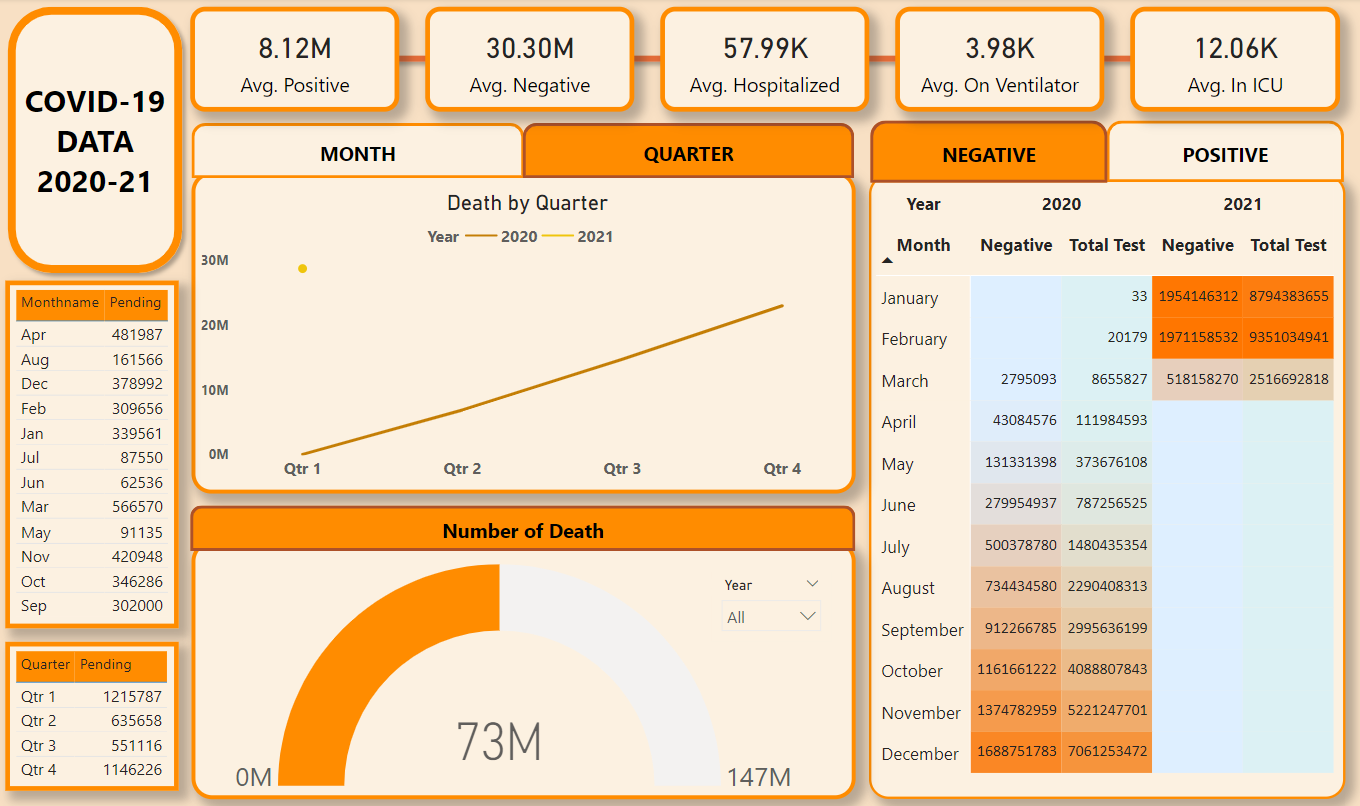

This screenshot's page, from the dashboard's own definition file:
{"tool":"powerbi","page":{"name":"Covid-19 Dashboard","canvas":[1380,820],"ordinal":0},"visuals":[{"type":"lineChart","title":"Death by Quarter","fields":{"Category":["Covid data.date.Variation.Date Hierarchy.Quarter"],"Y":["Sum(Covid data.death)"],"Series":["Covid data.date.Variation.Date Hierarchy.Year"]},"box":[195.1,176.1,673.3,326.8],"z":0},{"type":"shape","box":[300.5,3.8,953.4,115.4],"z":1000},{"type":"gauge","fields":{"Y":["Sum(Covid data.death)"]},"box":[194.9,550.8,673.3,262.7],"z":4000},{"type":"pivotTable","title":"Positive Matrix","fields":{"Rows":["Covid data.date.Variation.Date Hierarchy.Month"],"Columns":["Covid data.date.Variation.Date Hierarchy.Year"],"Values":["Sum(Covid data.Positive)","Sum(Covid data.Total Test)"]},"box":[884.9,178.8,480.5,633.9],"z":5000},{"type":"shape","title":"MonthActive","box":[195.4,126.4,337.3,55.9],"z":6000},{"type":"shape","title":"QuarterInactive","box":[531.7,126.4,336.2,55.9],"z":7000},{"type":"pivotTable","title":"Negative Matrix","fields":{"Rows":["Covid data.date.Variation.Date Hierarchy.Month"],"Columns":["Covid data.date.Variation.Date Hierarchy.Year"],"Values":["Sum(Covid data.Negative)","Sum(Covid data.Total Test)"]},"box":[882.4,178.8,483,633.9],"z":8000},{"type":"shape","title":"PositiveActive","box":[1123.9,125.3,240.9,62.7],"z":10000},{"type":"shape","title":"NegativeInactive","box":[883.9,124.8,240.5,63.1],"z":12000},{"type":"card","title":"Average","fields":{"Values":["Avg(Covid data.Positive)"]},"box":[194,8.9,211.7,106.5],"z":13000},{"type":"card","fields":{"Values":["Avg(Covid data.Negative)"]},"box":[432.3,8.9,211.7,106.5],"z":14000},{"type":"card","fields":{"Values":["Avg(Covid data.hospitalizedCurrently)"]},"box":[670.7,8.9,211.7,106.5],"z":15000},{"type":"shape","title":"NegativeActive","box":[883.6,124.2,240.9,64.7],"z":16000},{"type":"card","fields":{"Values":["Avg(Covid data.inIcuCurrently)"]},"box":[1147.3,8.9,213,106.5],"z":17000},{"type":"shape","title":"Number of Death","box":[193.7,515.3,674.6,46.2],"z":18000},{"type":"card","fields":{"Values":["Avg(Covid data.onVentilatorCurrently)"]},"box":[909,8.9,211.7,106.5],"z":19000},{"type":"shape","title":"PositiveInactive","box":[1124.5,125.5,240.9,63.4],"z":20000},{"type":"tableEx","fields":{"Values":["Covid data.Monthname","Sum(Covid data.pending)"]},"box":[6.2,286.2,176.2,352.5],"z":21000},{"type":"tableEx","fields":{"Values":["Covid data.date.Variation.Date Hierarchy.Quarter","Sum(Covid data.pending)"]},"box":[6.2,652.5,176,151.2],"z":22000},{"type":"slicer","fields":{"Values":["Covid data.date.Variation.Date Hierarchy.Year"]},"box":[722.5,582.5,121.2,70],"z":23000},{"type":"shape","box":[0,0,195.6,286.8],"z":24000}]}

Visuals, with their boxes in screenshot pixels (x1, y1, x2, y2), scaled from the page's 1380x820 canvas onto the 1360x806 screenshot:
"Death by Quarter" lineChart: rect(192, 173, 856, 494)
shape: rect(296, 4, 1236, 117)
gauge - Sum(Covid data.death): rect(192, 541, 856, 800)
"Positive Matrix" pivotTable: rect(872, 176, 1346, 799)
"MonthActive" shape: rect(193, 124, 525, 179)
"QuarterInactive" shape: rect(524, 124, 855, 179)
"Negative Matrix" pivotTable: rect(870, 176, 1346, 799)
"PositiveActive" shape: rect(1108, 123, 1345, 185)
"NegativeInactive" shape: rect(871, 123, 1108, 185)
"Average" card: rect(191, 9, 400, 113)
card - Avg(Covid data.Negative): rect(426, 9, 635, 113)
card - Avg(Covid data.hospitalizedCurrently): rect(661, 9, 870, 113)
"NegativeActive" shape: rect(871, 122, 1108, 186)
card - Avg(Covid data.inIcuCurrently): rect(1131, 9, 1341, 113)
"Number of Death" shape: rect(191, 507, 856, 552)
card - Avg(Covid data.onVentilatorCurrently): rect(896, 9, 1104, 113)
"PositiveInactive" shape: rect(1108, 123, 1346, 186)
tableEx - Covid data.Monthname x Sum(Covid data.pending): rect(6, 281, 180, 628)
tableEx - Covid data.date.Variation.Date Hierarchy.Quarter x Sum(Covid data.pending): rect(6, 641, 180, 790)
slicer - Covid data.date.Variation.Date Hierarchy.Year: rect(712, 573, 831, 641)
shape: rect(0, 0, 193, 282)
